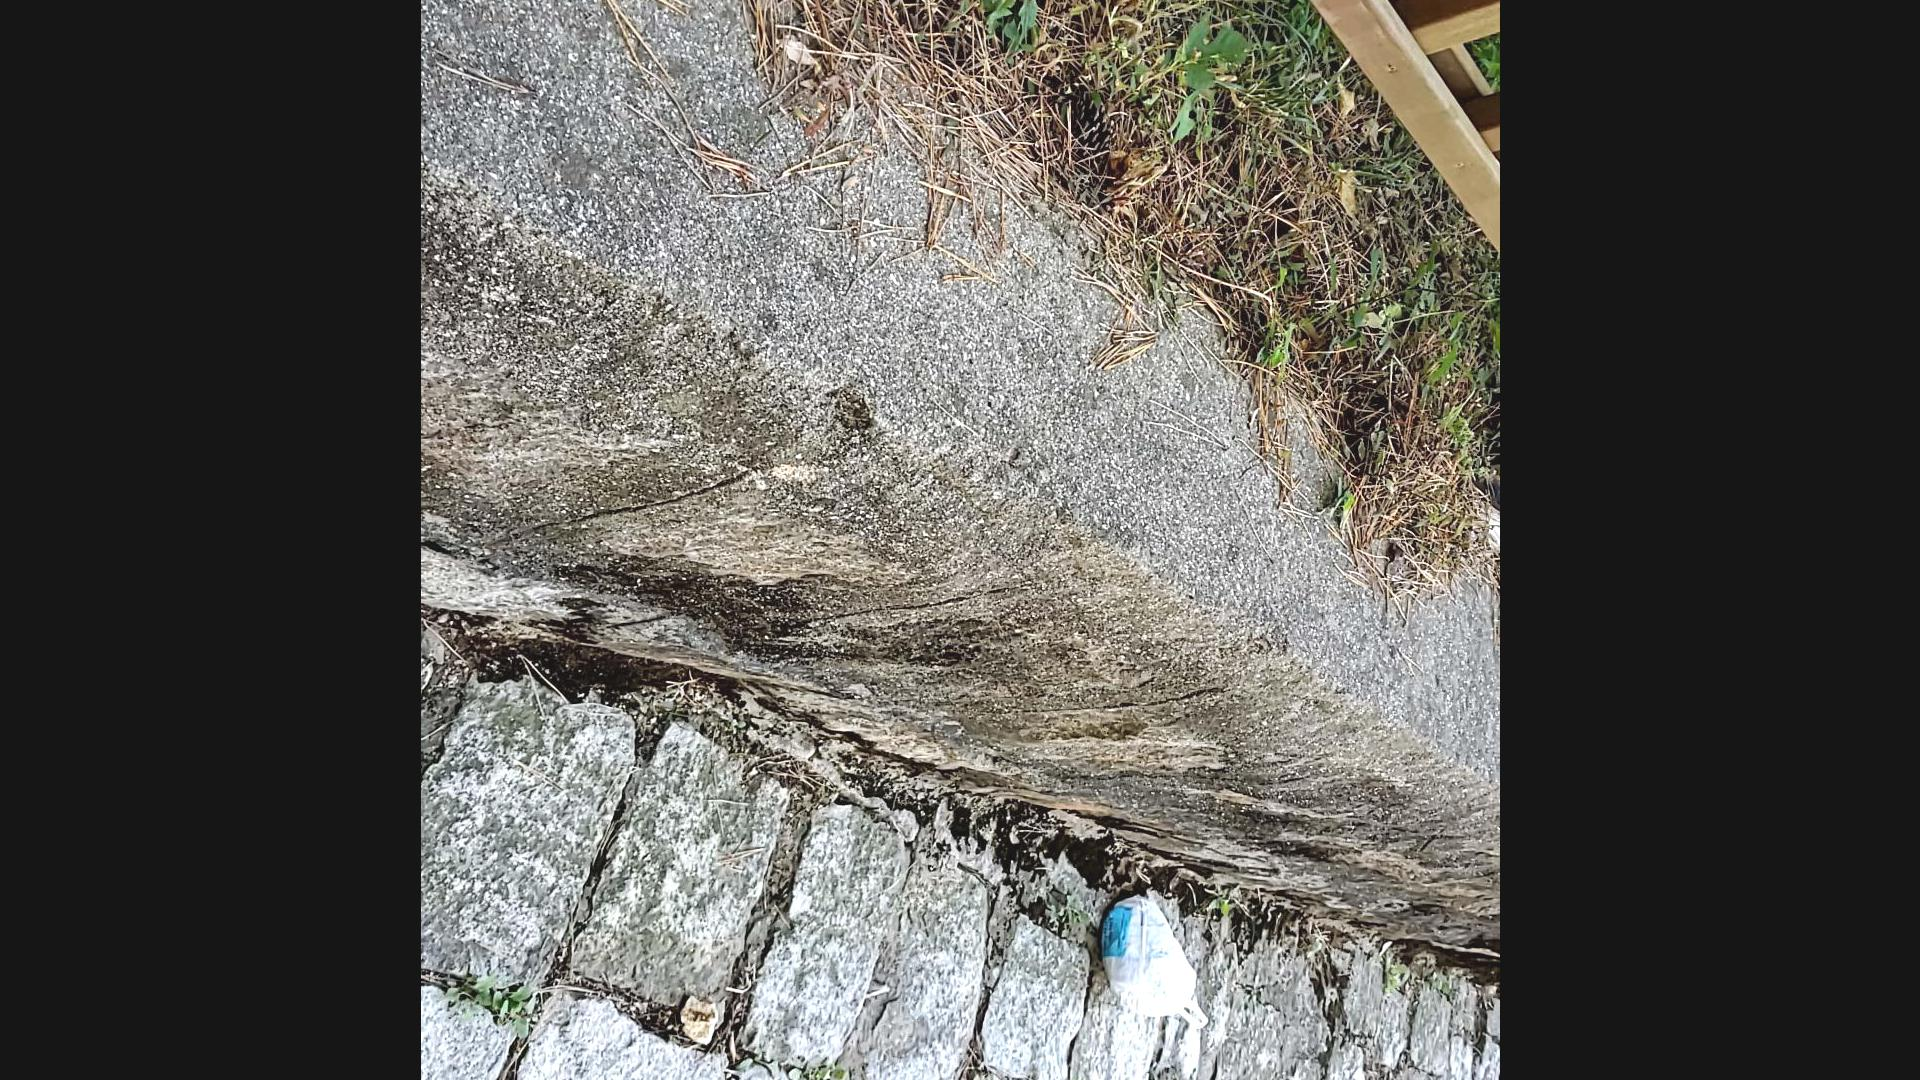white_bag: (1092, 886, 1216, 1036)
